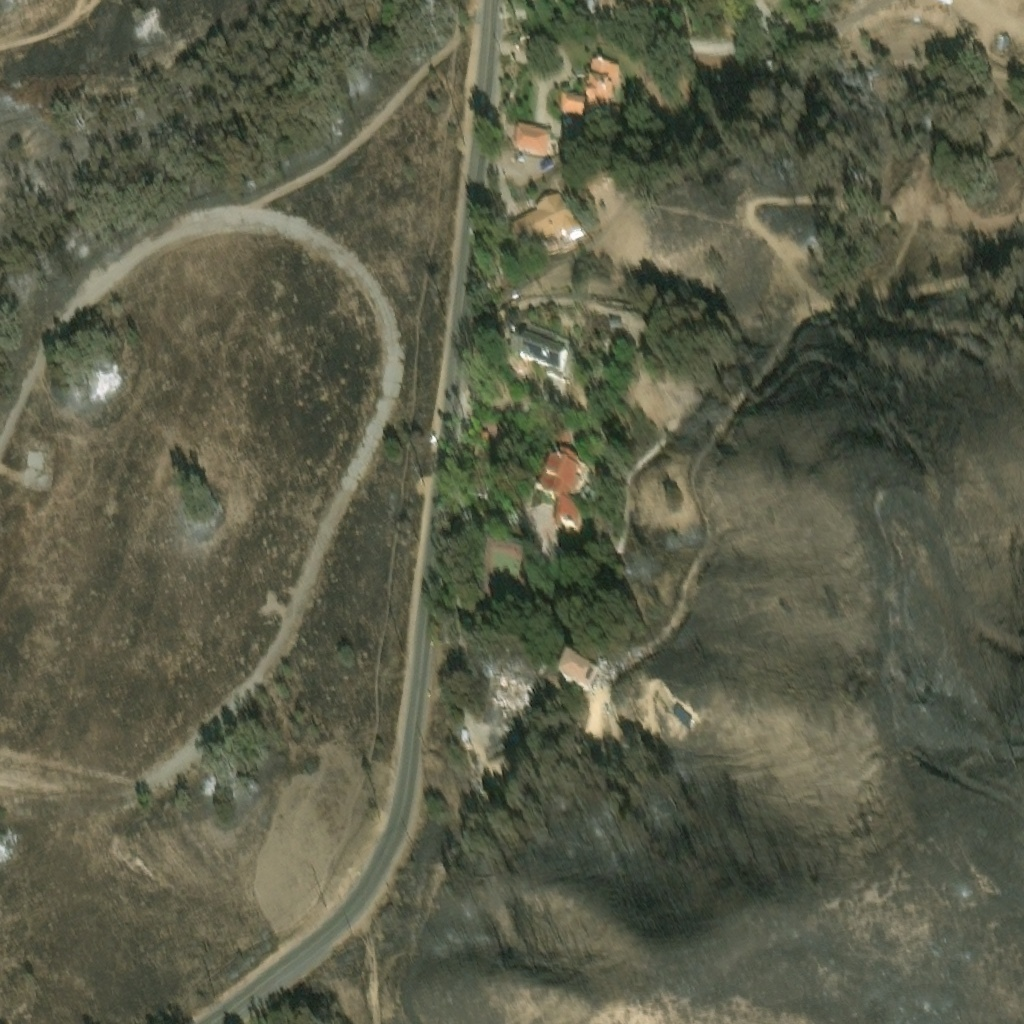0 no-damage: (501, 185, 581, 245), (534, 443, 587, 528), (506, 322, 577, 378), (582, 47, 620, 109), (508, 113, 559, 146), (558, 651, 599, 688), (554, 82, 585, 106), (670, 697, 692, 718), (577, 474, 592, 492), (477, 282, 492, 298), (480, 428, 487, 436)
3 destroyed: (486, 664, 530, 705), (501, 700, 521, 720)
4 un-classified: (953, 0, 970, 9), (761, 50, 769, 59)
